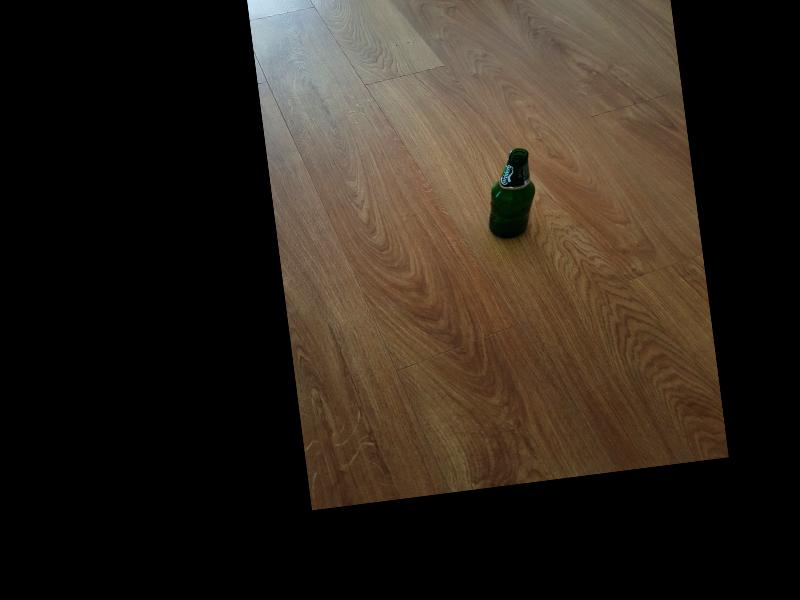Beer: (478, 145, 541, 241)
